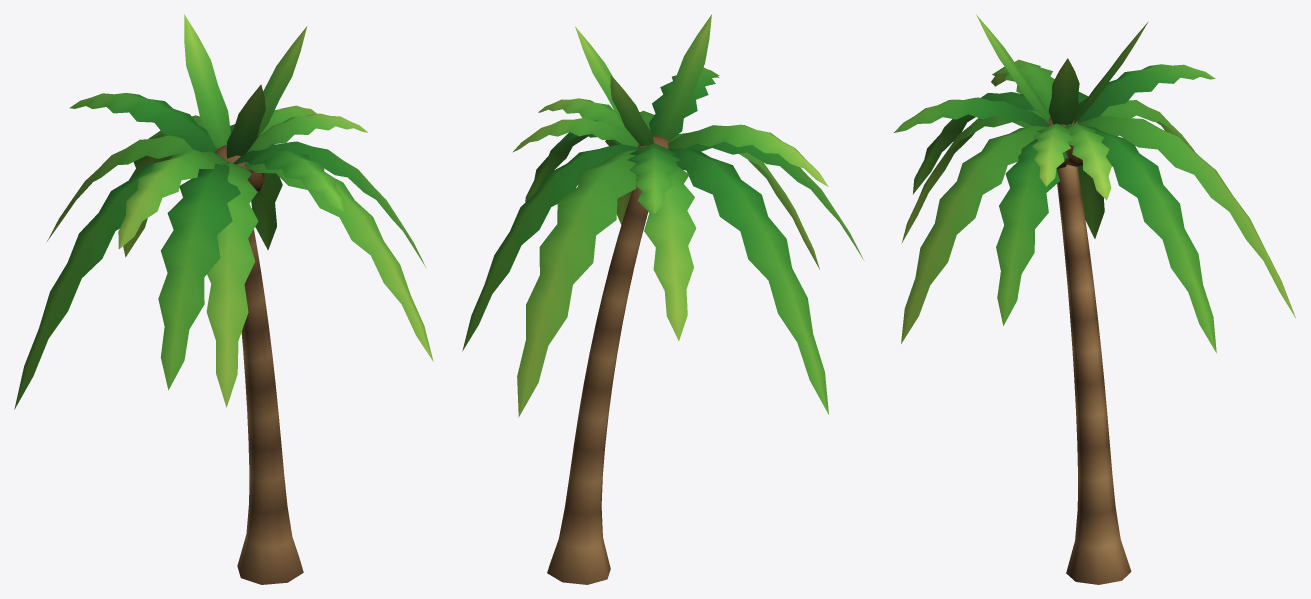
Rendered from Palm_Tall.obj.
3 renders of one model, left to right at view 1: azimuth 30°, elevation 25°; view 2: azimuth 150°, elevation 25°; view 3: azimuth 270°, elevation 25°, orthographic. The views are drawn at different scales.
Parts seen in each view (by area): view 1: Palm_Tall; view 2: Palm_Tall; view 3: Palm_Tall.
Boxes of the visible parts, x1=… form: Palm_Tall: x1=14, y1=14, x2=433, y2=584; Palm_Tall: x1=462, y1=14, x2=863, y2=584; Palm_Tall: x1=894, y1=14, x2=1295, y2=584.
Size of the model in its own units: 2.49 by 3.59 by 2.5.
1 material, 1 textured.
